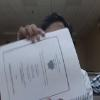notebook: (0, 27, 93, 99)
